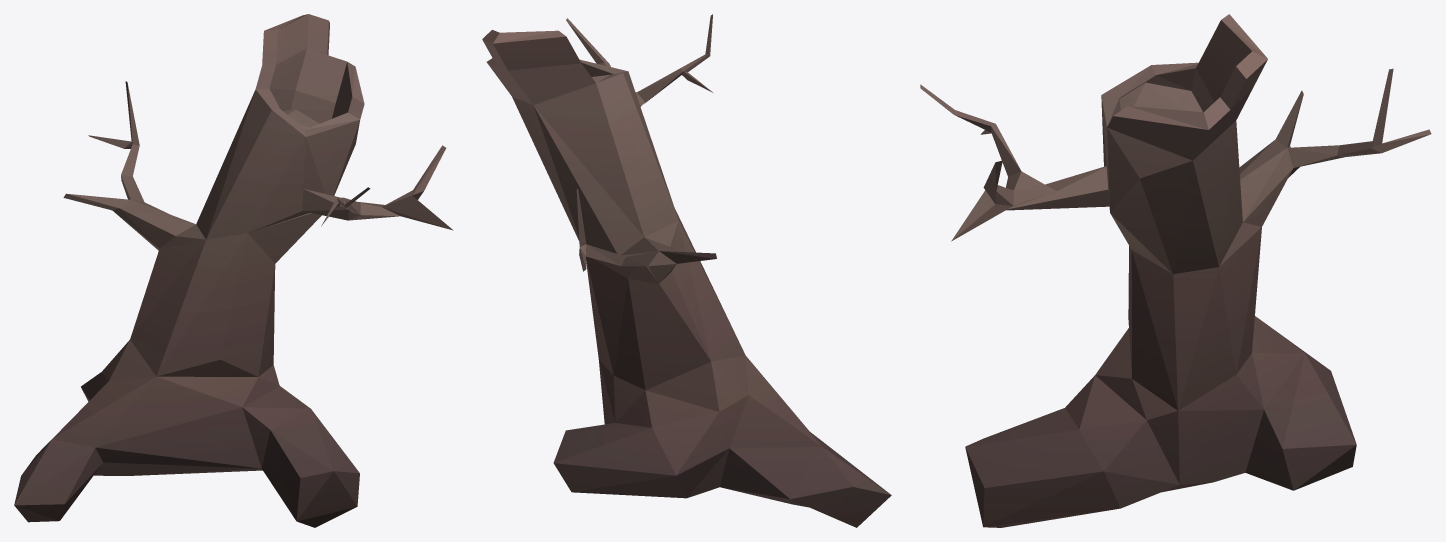
File: tree-7.glb
3 views of the same model, side by side, from view 1: azimuth 30°, elevation 25°; view 2: azimuth 150°, elevation 25°; view 3: azimuth 270°, elevation 25° (orthographic). The views are drawn at different scales.
Parts seen in each view (by area): view 1: tree7; view 2: tree7; view 3: tree7.
Part boxes in pixels (left/top/right/bottom): tree7: left=14, top=14, right=453, bottom=527; tree7: left=482, top=14, right=891, bottom=527; tree7: left=920, top=14, right=1431, bottom=527.
Bounding box in the file's own units: 1.88 × 2.06 × 1.78.
1 material, 1 textured.
